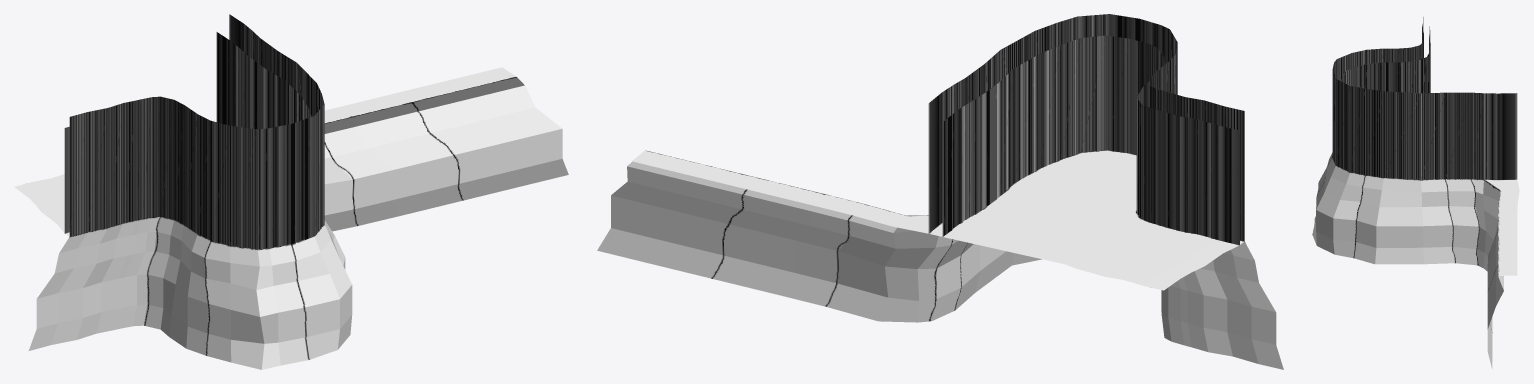
The model's file is Area4Mesh.fbx.
3 renders of one model, left to right at view 1: azimuth 30°, elevation 25°; view 2: azimuth 150°, elevation 25°; view 3: azimuth 270°, elevation 25°, orthographic. The views are drawn at different scales.
Parts seen in each view (by area): view 1: Terrain, Wall1, Wall2; view 2: Terrain, Wall2, Wall1; view 3: Terrain, Wall1, Wall2.
Part boxes in pixels (x1,y1,x2,y2): Terrain: (14,67,568,369); Wall1: (69,14,324,248); Wall2: (64,32,311,233); Terrain: (597,150,1283,369); Wall2: (942,35,1239,244); Wall1: (928,14,1244,241); Terrain: (1312,152,1519,368); Wall1: (1332,17,1517,179); Wall2: (1341,26,1430,93).
Bounding box in the file's own units: 74775 × 27673 × 31774.
Materials: 1 (1 with a texture image).
